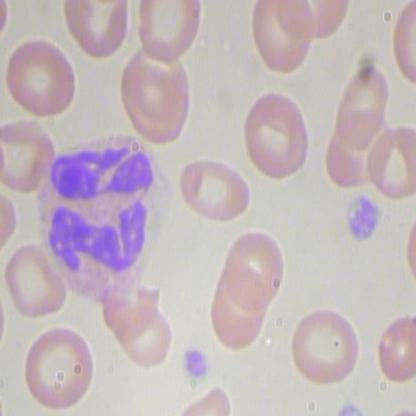Platelets: (342, 190, 383, 245), (180, 340, 216, 381)
RBC: (118, 41, 199, 146), (21, 322, 99, 415), (286, 301, 366, 390), (237, 89, 312, 182), (4, 36, 85, 122), (327, 65, 396, 156), (207, 261, 276, 352), (221, 226, 287, 317), (246, 1, 320, 79), (4, 239, 69, 321), (178, 155, 252, 224), (1, 116, 63, 197), (111, 299, 177, 373), (64, 1, 135, 62), (364, 117, 415, 201), (135, 1, 205, 62)
WBC: (36, 129, 172, 301)
